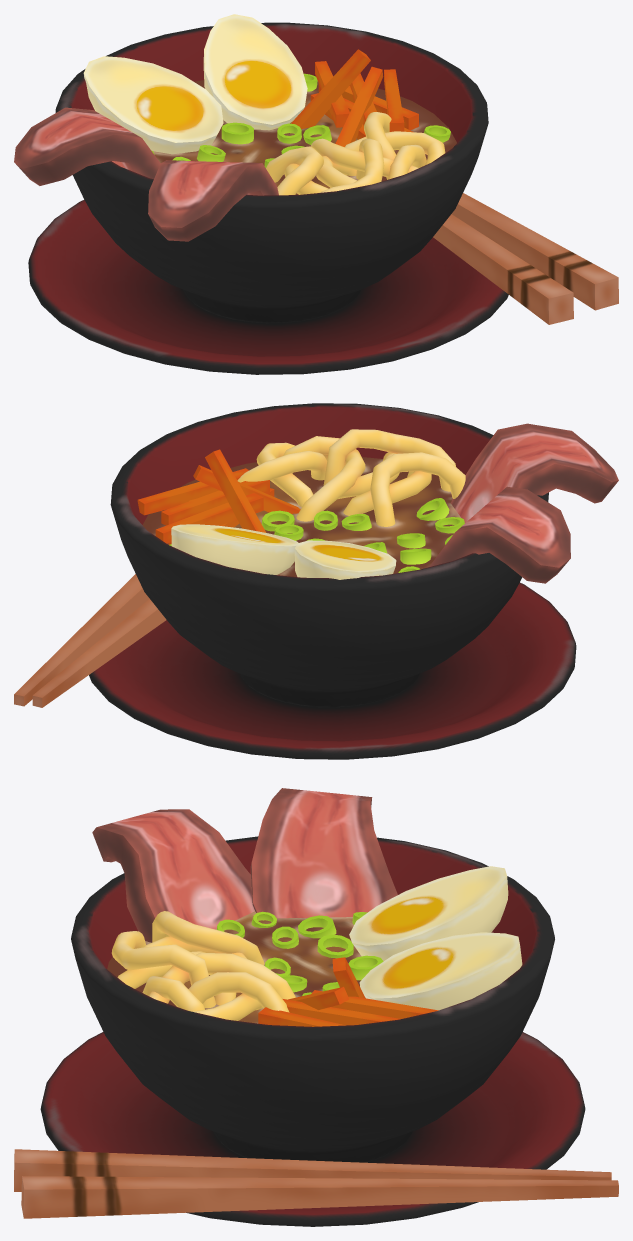
The model's file is noodle_bowl_-_3ddecember_day9.glb.
3 views of the same model, one above another, from view 1: azimuth 30°, elevation 25°; view 2: azimuth 150°, elevation 25°; view 3: azimuth 270°, elevation 25° (orthographic). The views are drawn at different scales.
Parts seen in each view (by area): view 1: Circle; view 2: Circle; view 3: Circle.
Boxes of the visible parts, box(x1,y1,x2,y2) form: Circle: box(14, 14, 618, 374); Circle: box(14, 403, 618, 759); Circle: box(14, 788, 618, 1226).
Bounding box in the file's own units: 5.54 × 2.51 × 5.65.
Materials: 1 (1 with a texture image).
